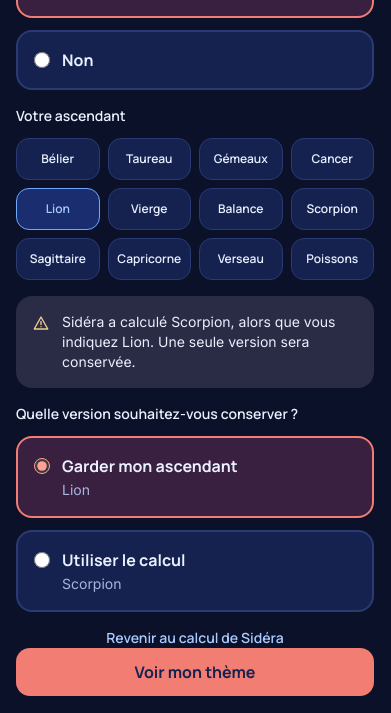
Test: AscendantStep › restores a declared ascendant when resuming and can return to the calculation
(page scrolled)
Expected: the radio button labelled "Lion" is checked, x1=16 y1=188 x2=100 y2=230
Expected: the button "Voir mon thème" is enabled, x1=16 y1=648 x2=374 y2=696
Click the button "Revenir au calcul de Sidéra".
click(195, 638)  # box x1=16 y1=628 x2=374 y2=648
(page scrolled)
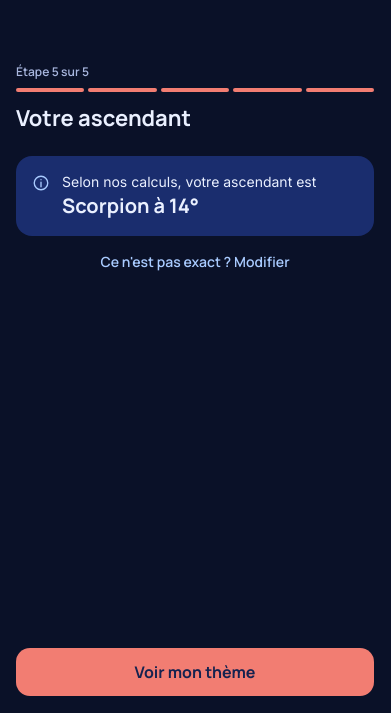
Expected: the text "Scorpion à 14°" is shown, x1=62 y1=192 x2=199 y2=219
